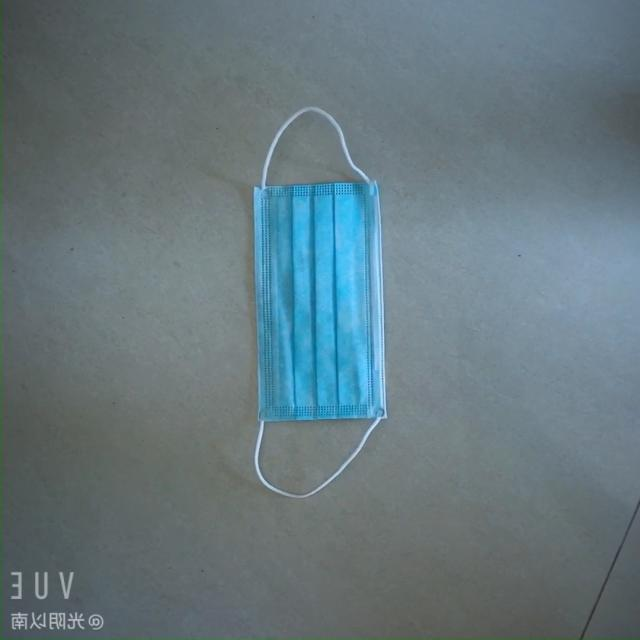face mask: (250, 166, 388, 440)
